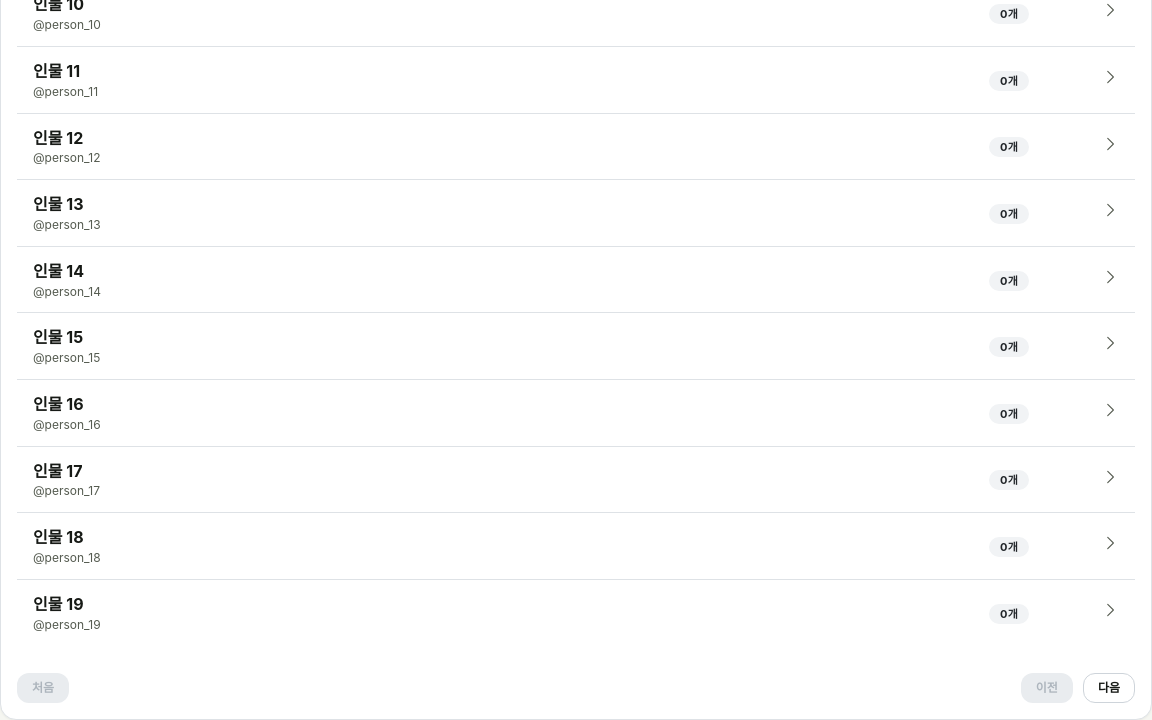
Scenario: character SNS reference list and detail › replaces 20-character pages and preserves the filtered page and previous cursor after visiting detail
This screenshot has width=1152, height=720.
(page scrolled)
What coordinates should you click on to do the following:
click the button "다음"
I would click on:
 (1109, 688)
Its box is [1083, 673, 1135, 703].
(page scrolled)
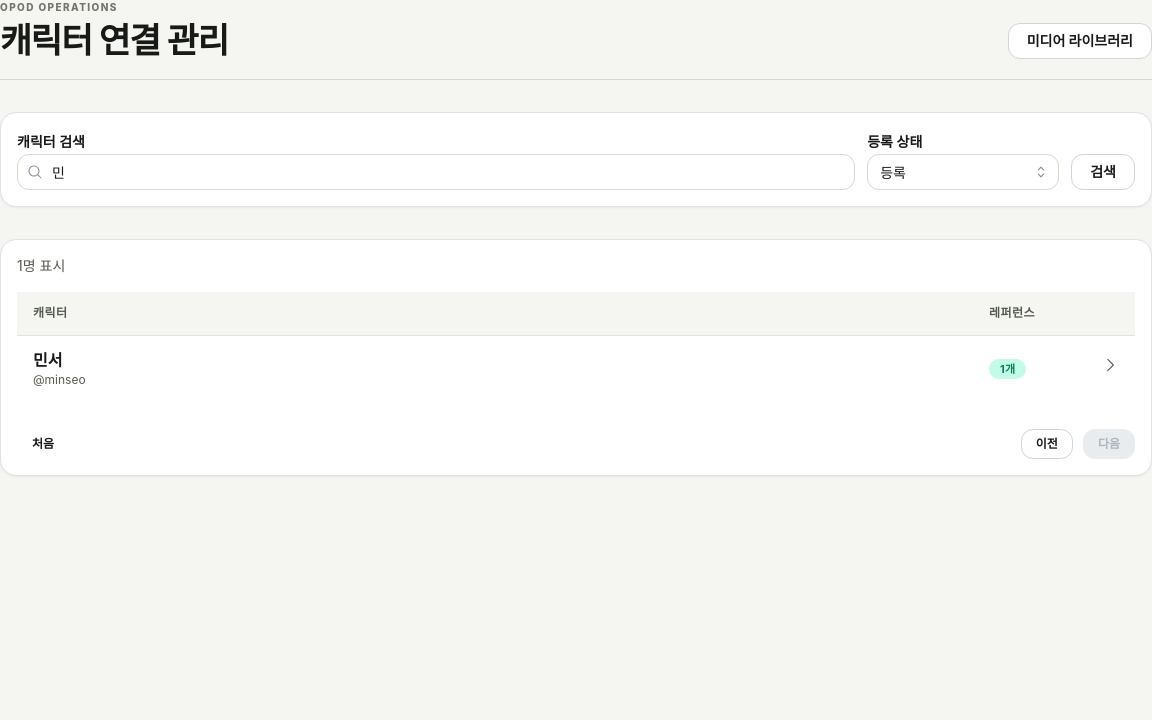
What coordinates should you click on to do the following:
click the link with aria-label "민서의 SNS 레퍼런스 보기"
I would click on:
 (48, 360)
Its box is [33, 350, 62, 370].
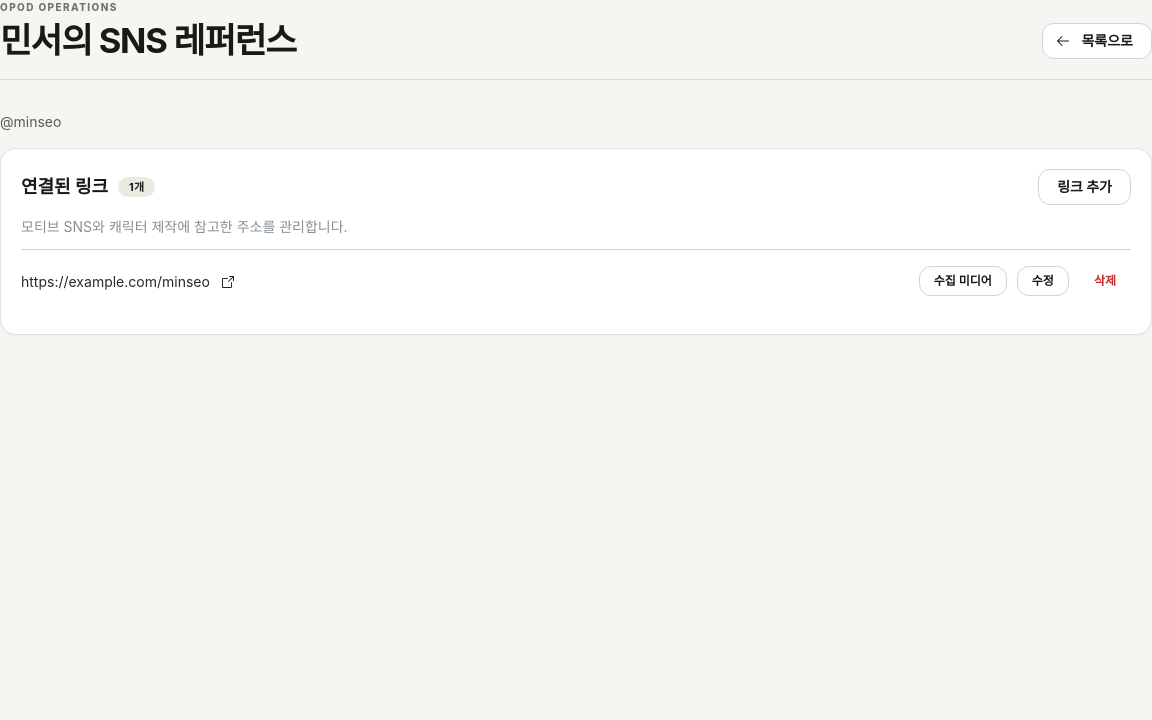
Expected: the heading "민서의 SNS 레퍼런스" is shown, [0, 22, 296, 59]
What coordinates should you click on to do the following:
click the button "목록으로"
I would click on:
 (1097, 41)
Its box is [1042, 23, 1151, 59].
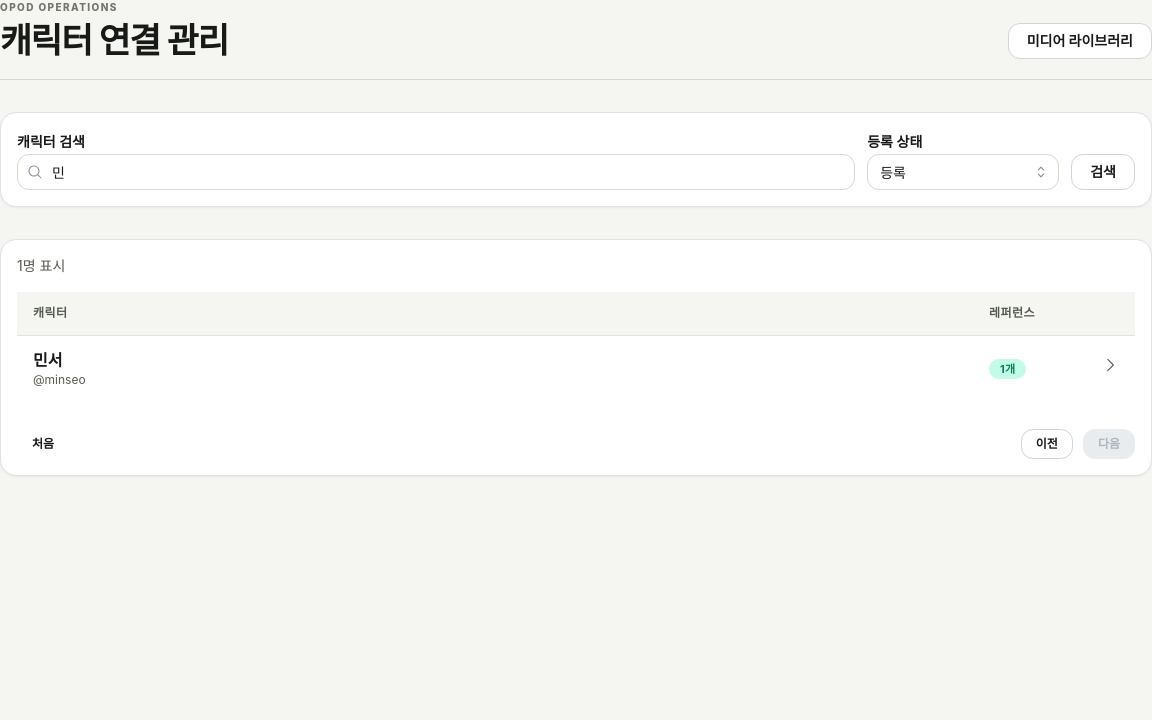
Expected: the link with aria-label "민서의 SNS 레퍼런스 보기" is shown, [33, 350, 62, 370]
Expected: the field labelled "캐릭터 검색" holds "민", [17, 154, 855, 190]
Expected: the dropdown labelled "등록 상태" holds "등록", [867, 154, 1059, 190]
What coordinates should you click on to do the following:
click the button "이전"
I would click on:
 (1047, 444)
Its box is [1021, 429, 1073, 459].
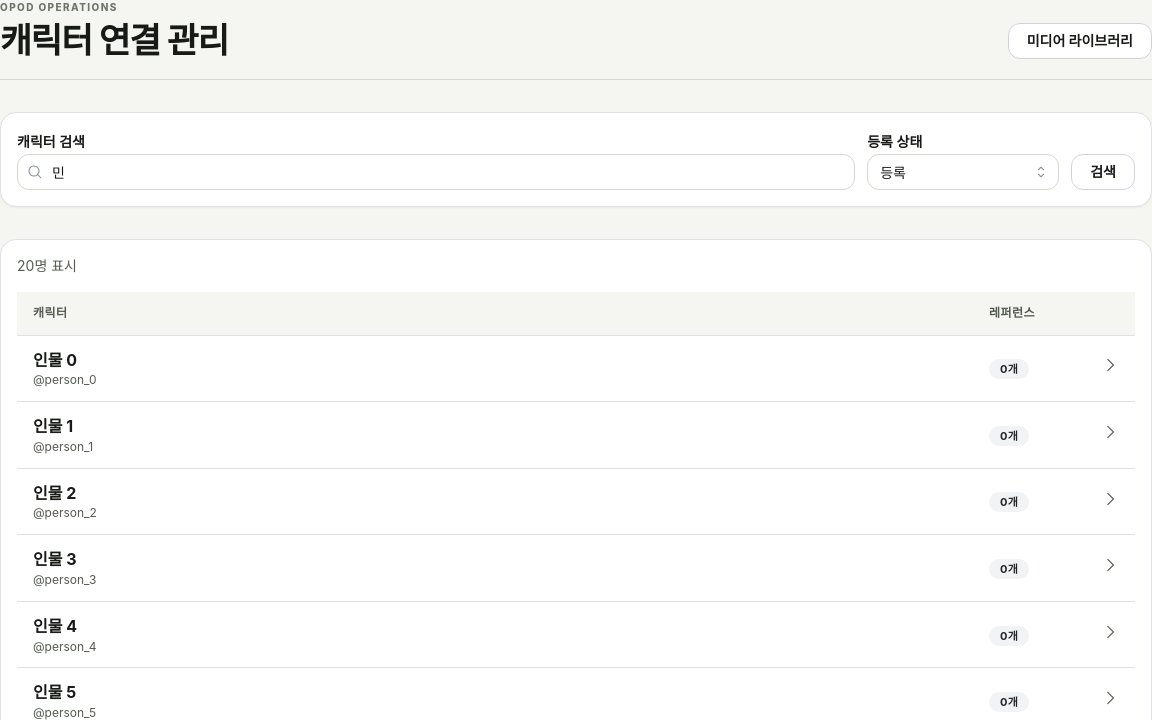
Expected: the link with aria-label "인물 0의 SNS 레퍼런스 보기" is shown, [33, 350, 77, 370]
